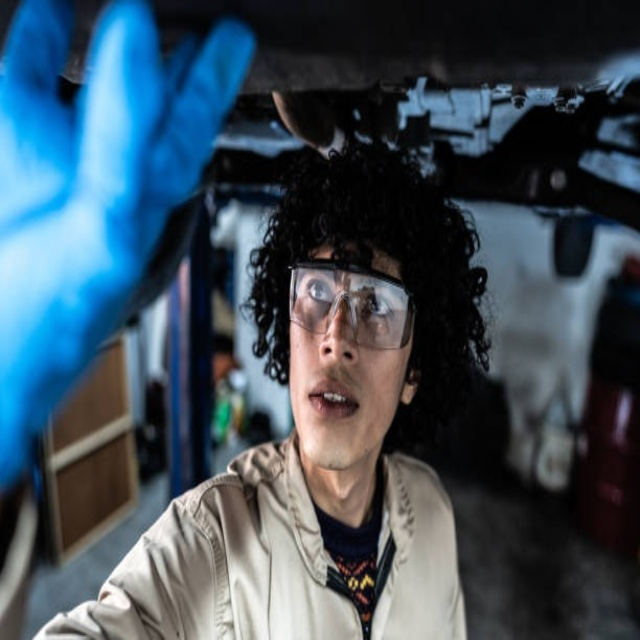Gafas: (287, 262, 414, 349)
Guantes: (1, 0, 258, 515)
Sin_mascara: (296, 369, 374, 460)
